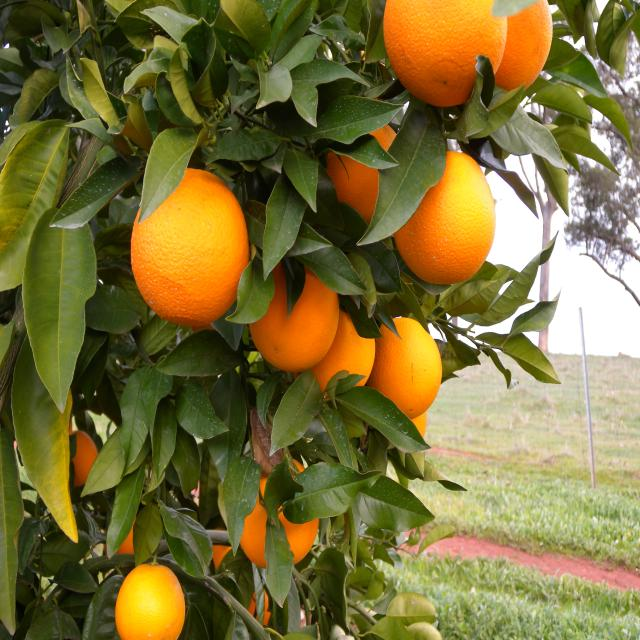Orange: (118, 147, 259, 346), (378, 136, 511, 320), (367, 0, 530, 119), (244, 238, 356, 384), (106, 543, 192, 640)
